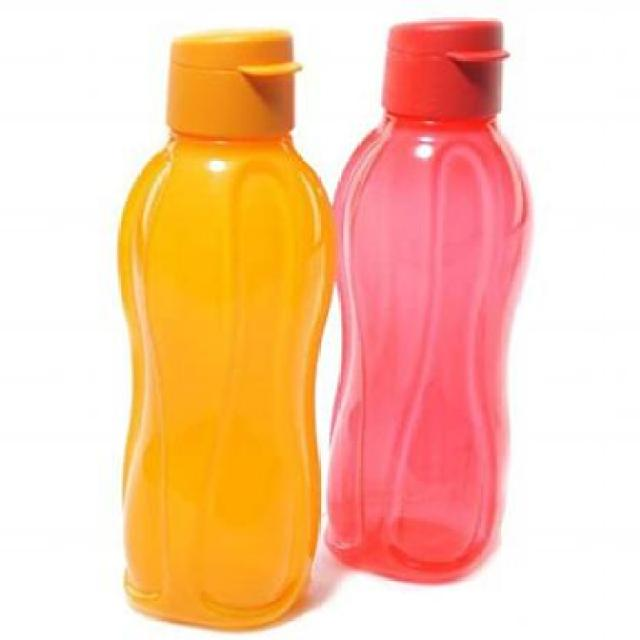Drinking: (120, 19, 322, 630), (333, 16, 528, 584)
